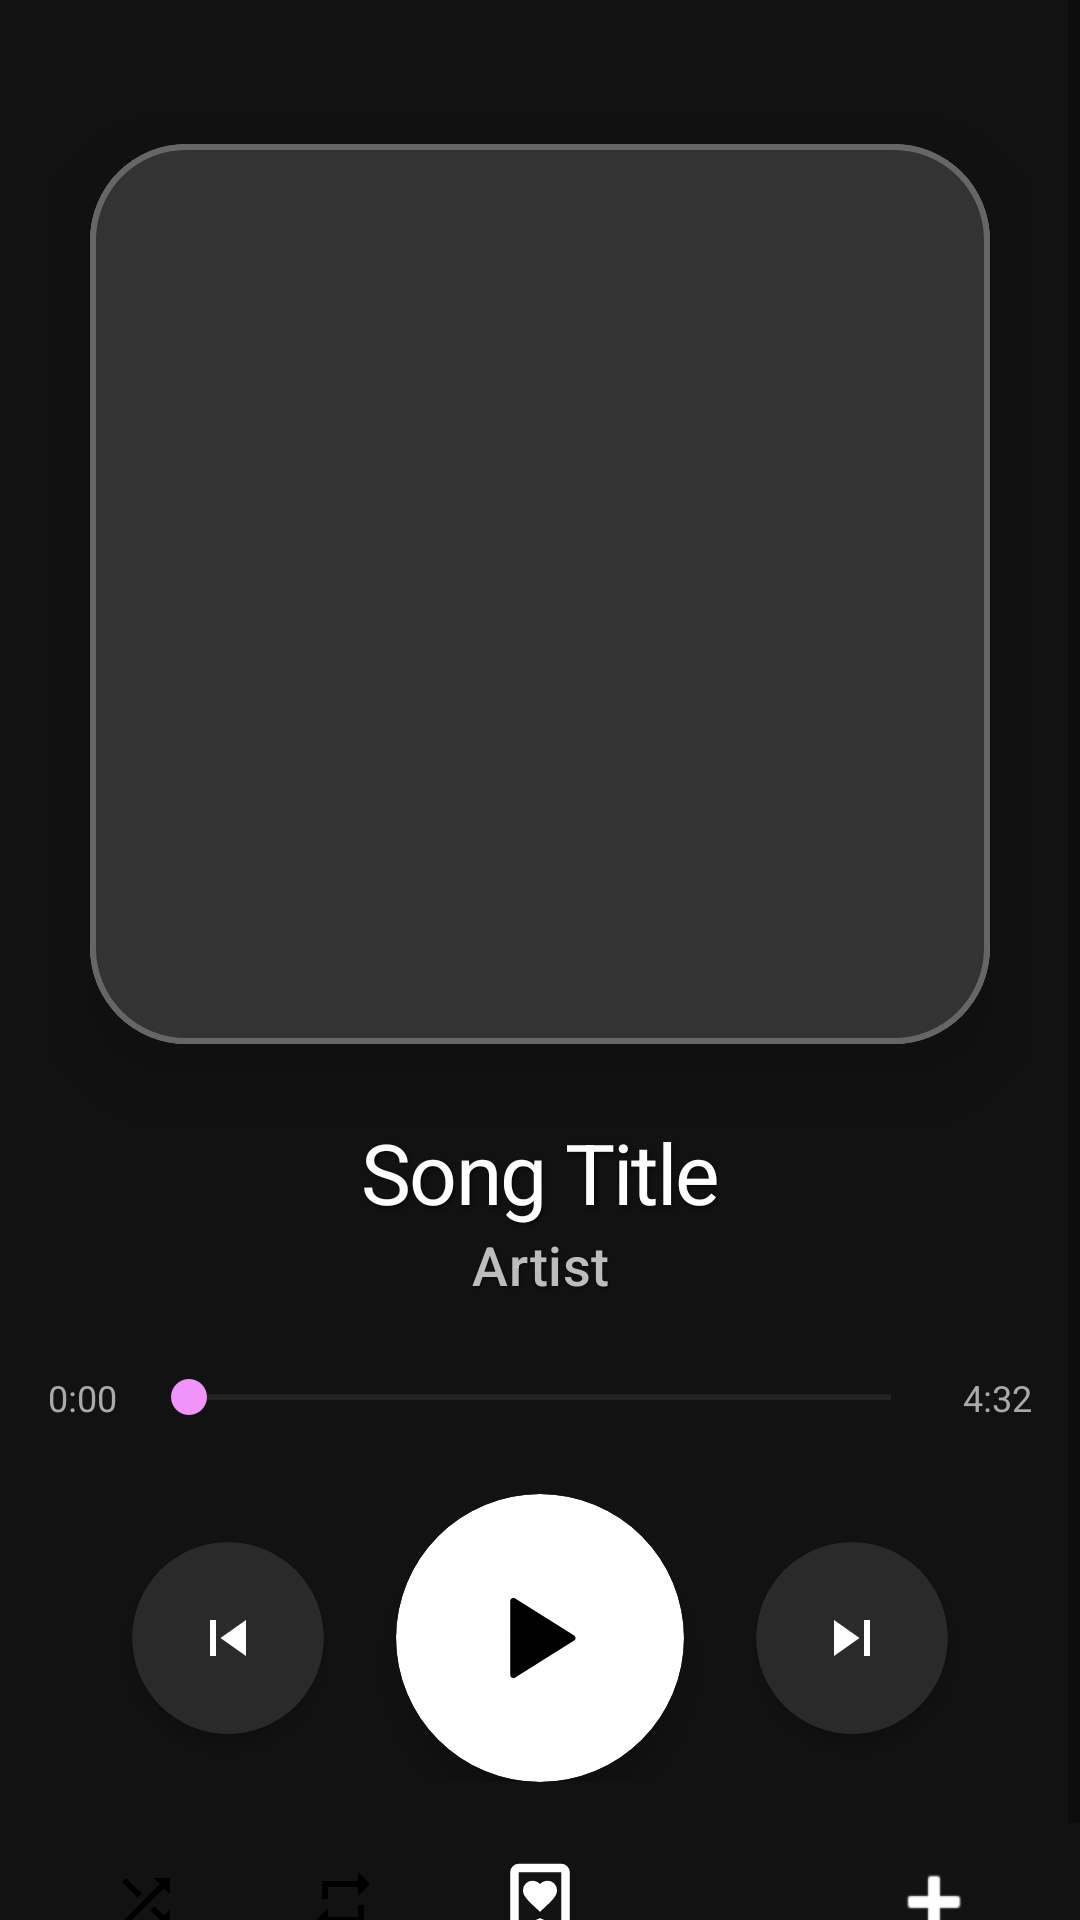

Point at icon controls on the screen. Image size 1080*1920, points as (x=x, y=y).
play: (x=540, y=1638)
skip next: (x=852, y=1638)
skip previous: (x=228, y=1638)
